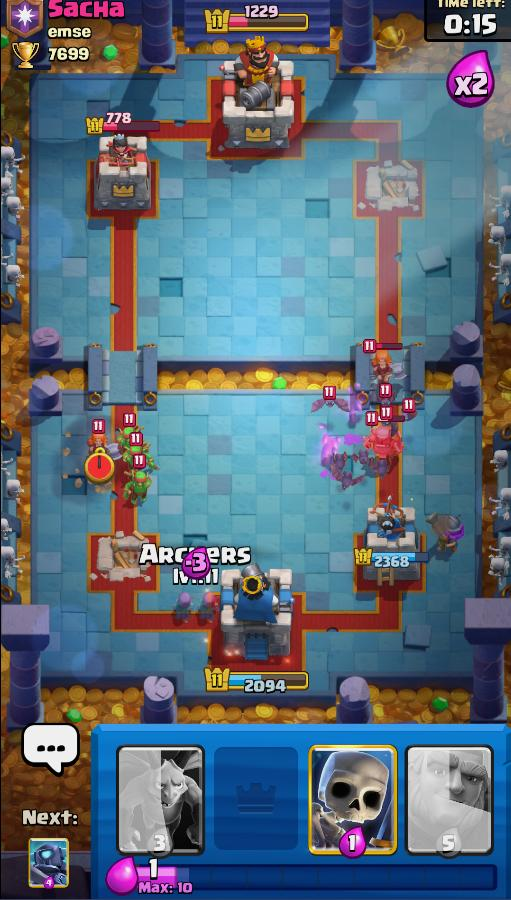archere: (194, 582, 223, 631), (168, 592, 197, 629)
bat: (303, 395, 357, 425), (327, 462, 369, 494), (365, 452, 403, 481), (394, 399, 426, 426), (372, 415, 406, 440), (320, 448, 352, 474), (346, 446, 377, 471), (367, 392, 399, 416)
gobelin_lances: (119, 469, 164, 514), (119, 439, 163, 476), (110, 419, 147, 453)
mini_PEKKA: (357, 420, 410, 461)
mousquetaire: (417, 501, 472, 563)
valkyrie: (77, 417, 122, 475), (357, 350, 409, 393)
